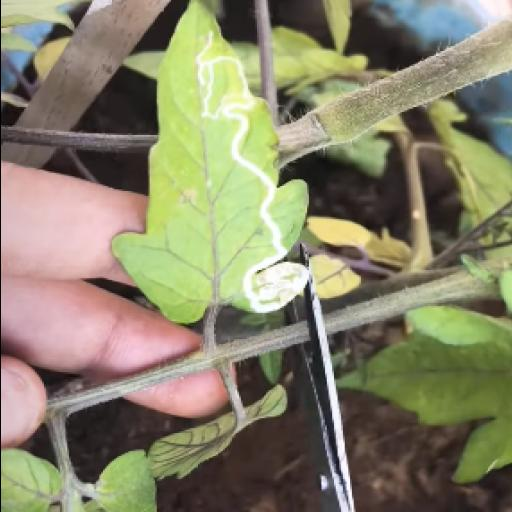Leaf Miner: (108, 0, 312, 322)
